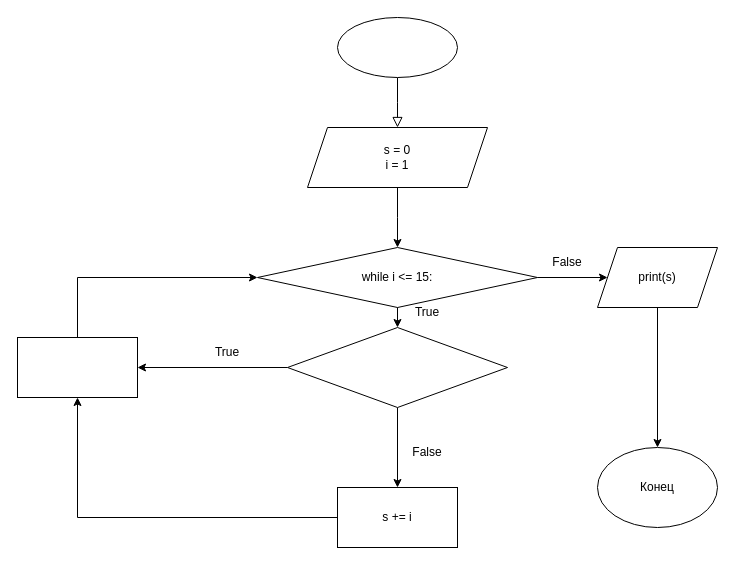
Image size: 735x565. Some labels were removed from this diagram. Each missing label, with the box of its shape:
i += 1: (16, 336, 138, 398)
if i%2==0:: (286, 326, 508, 408)
Начало: (336, 16, 458, 78)
